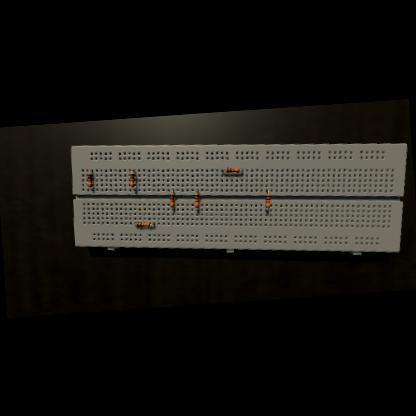breadboard: (68, 122, 414, 274)
resistor: (265, 194, 272, 208), (225, 166, 240, 172), (86, 172, 92, 186), (129, 172, 135, 186), (170, 192, 176, 206), (194, 193, 199, 207), (136, 221, 150, 226)
wire: (91, 186, 94, 190), (133, 186, 136, 190), (266, 191, 269, 194), (264, 208, 268, 210), (222, 169, 225, 171), (172, 190, 174, 193), (197, 189, 199, 192), (151, 223, 156, 224), (90, 170, 92, 172), (132, 170, 134, 172), (172, 208, 174, 210), (196, 207, 198, 209), (134, 222, 136, 224), (240, 170, 242, 171)
